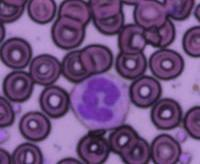N: (68, 71, 130, 130)
